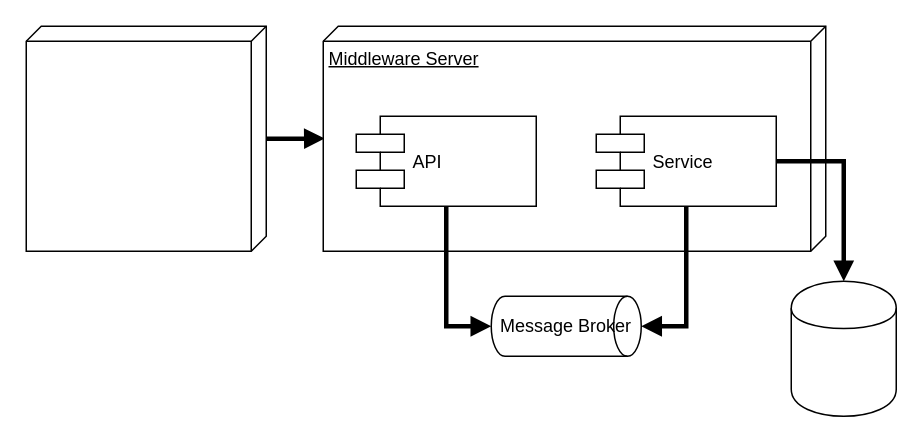
Some shapes in this 923 by 443 pixel diagram are drawn without their labels. The centre of each missing label's shape, as x and y in pixels:
3rd Party Integration: (145,138)
Database: (843,348)
